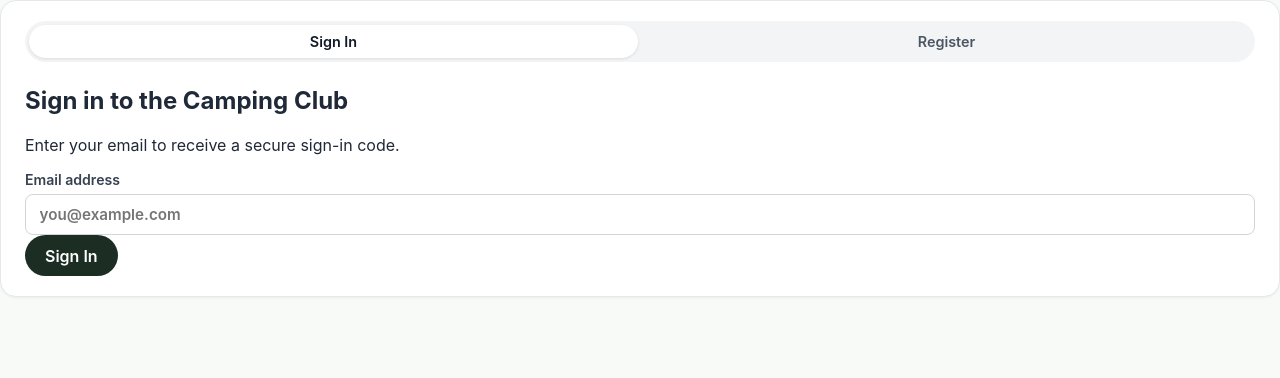
SignInForm › switches to Register mode showing Name, Email, and Request Access button
Click the tab "Register" at (946, 42), box x1=642 y1=25 x2=1251 y2=58
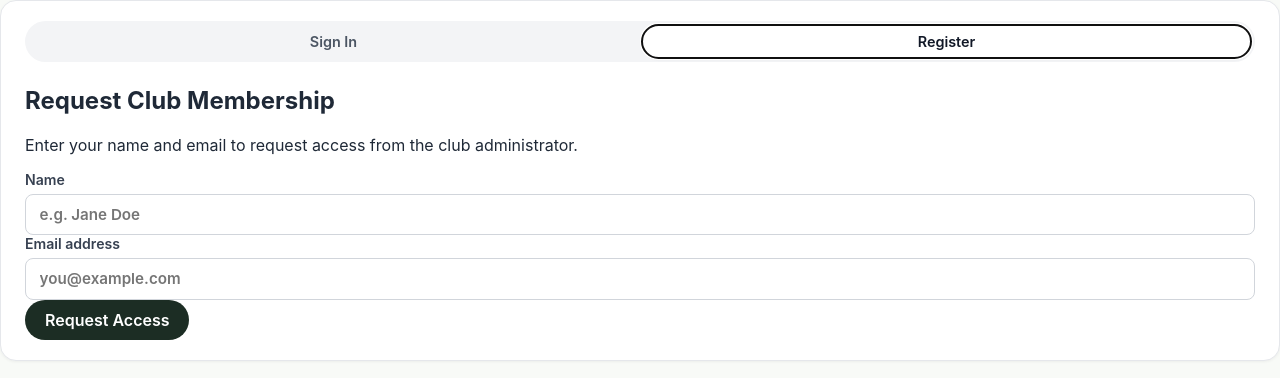
Expected: the heading "Request Club Membership" is shown, x1=25 y1=86 x2=335 y2=115
Expected: the field labelled "Name" is shown, x1=25 y1=194 x2=1255 y2=235
Expected: the button "Request Access" is shown, x1=25 y1=300 x2=190 y2=340
